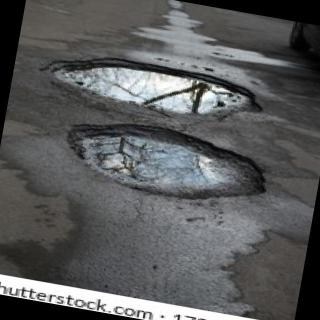pothole: (68, 124, 266, 200), (40, 58, 264, 115)
